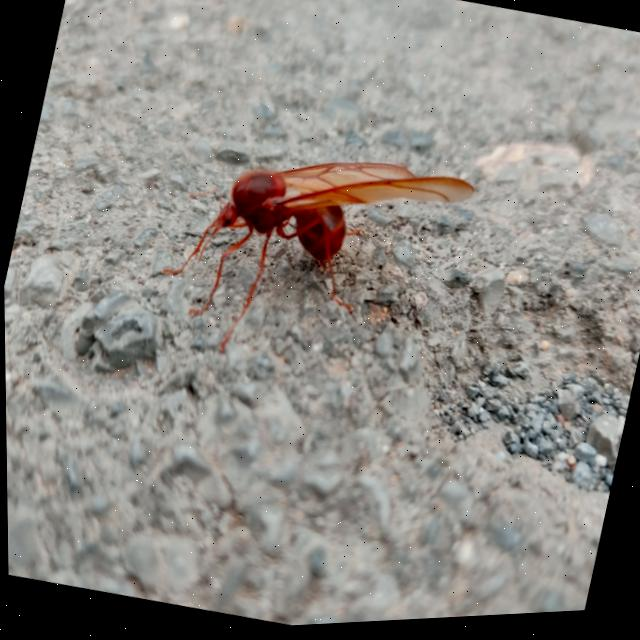Alive-Male-Alate: (145, 118, 479, 404)
